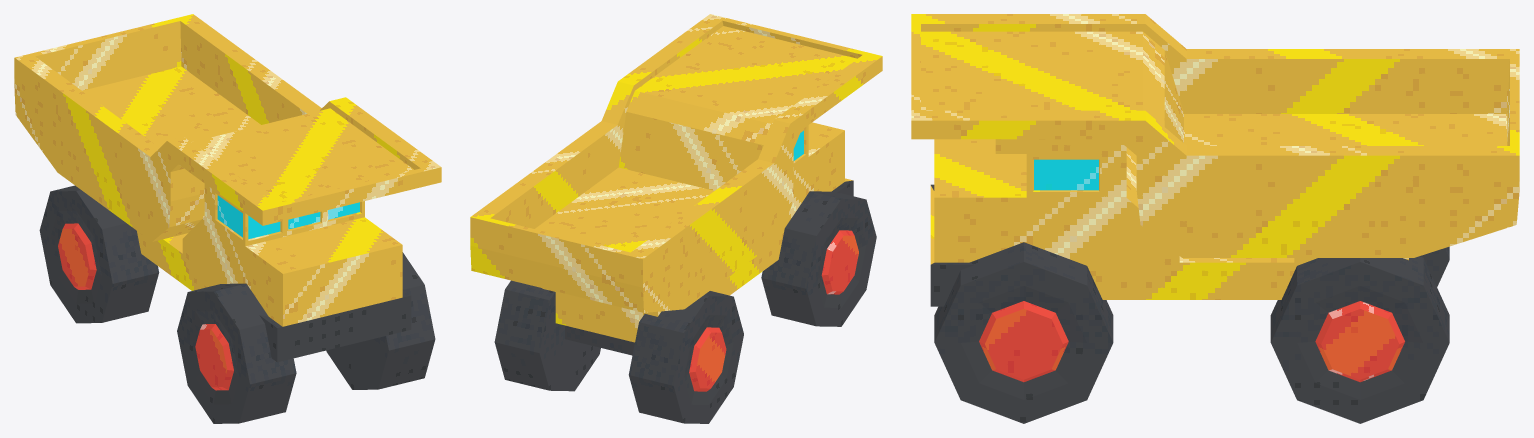
File: dumpTruck.glb
3 renders of one model, left to right at view 1: azimuth 30°, elevation 25°; view 2: azimuth 150°, elevation 25°; view 3: azimuth 270°, elevation 25°, orthographic. The views are drawn at different scales.
Parts seen in each view (by area): view 1: Cube.001, Cylinder, Cube; view 2: Cube.001, Cylinder, Cube, Cube.002; view 3: Cube.001, Cylinder, Cube.
Part boxes in pixels (x1,y1,x2,y2): Cube.001: [14, 14, 441, 241]; Cylinder: [39, 185, 435, 423]; Cube: [137, 184, 411, 362]; Cube.001: [470, 14, 882, 312]; Cylinder: [494, 191, 876, 423]; Cube: [542, 122, 853, 342]; Cube.002: [565, 325, 634, 355]; Cube.001: [911, 14, 1519, 257]; Cylinder: [934, 242, 1449, 423]; Cube: [930, 139, 1408, 306].
Bounding box in the file's own units: 0.1673 × 0.207 × 0.3788.
Materials: 4 (4 with a texture image).
